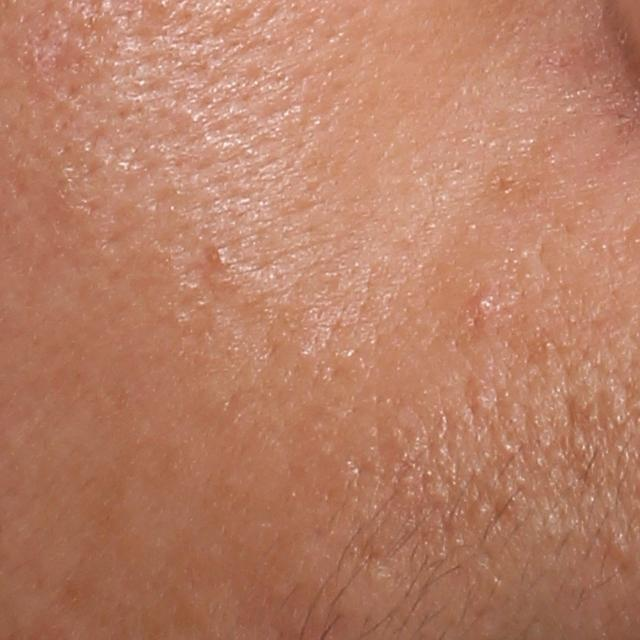comedo: (605, 528, 631, 559), (471, 496, 493, 521)
